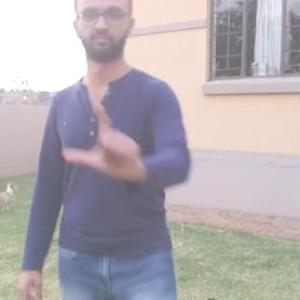land_hand: (58, 92, 154, 193)
